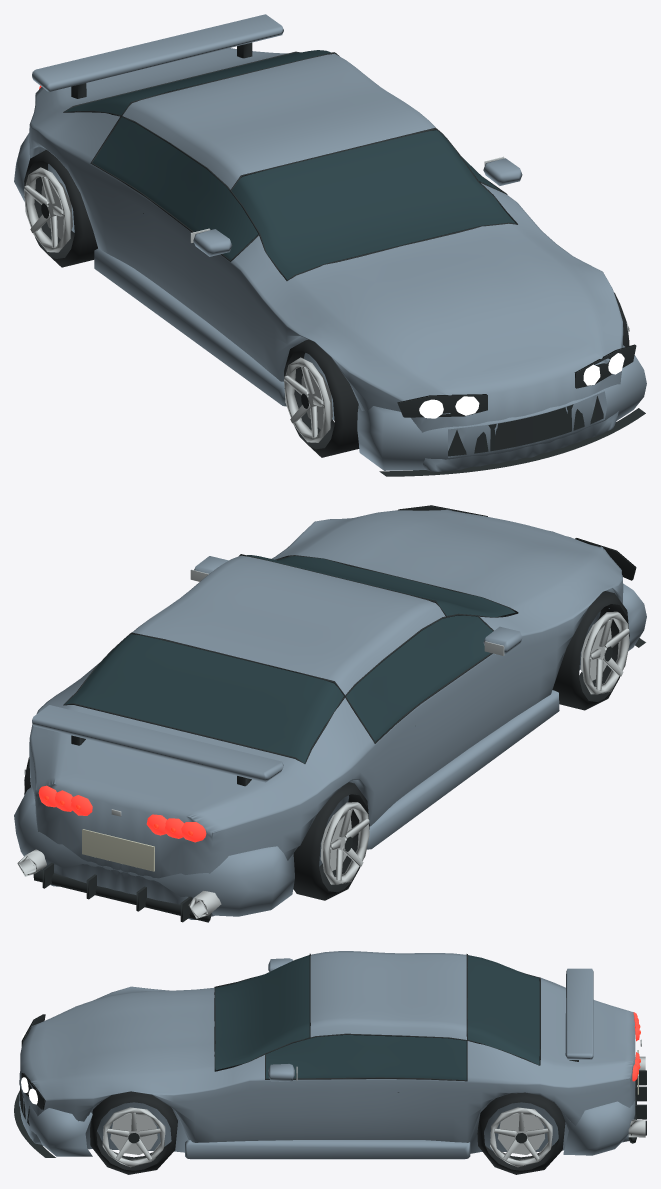
File: lethari-keldra.glb
3 views of the same model, one above another, from view 1: azimuth 30°, elevation 25°; view 2: azimuth 150°, elevation 25°; view 3: azimuth 270°, elevation 25° (orthographic). The views are drawn at different scales.
Visible parts, largest first — view 1: cofano, scocca, cristallo_ant, tetto, porta_sx, cristallo_sx, paraurti_ant, spoiler, minigonna_sx, portellone, ruota_ant_sx_gomma, griglia (+15 smaller); view 2: scocca, tetto, cristallo_post, cofano, portellone, porta_sx, cristallo_sx, paraurti_post, spoiler, minigonna_sx, cristallo_ant, ruota_post_sx_gomma (+13 smaller); view 3: scocca, cofano, porta_dx, tetto, cristallo_ant, cristallo_dx, cristallo_post, minigonna_dx, portellone, paraurti_post, spoiler, ruota_ant_dx_gomma (+13 smaller).
Boxes of the visible parts, bbox=[...] form: cofano: bbox=[287, 223, 604, 385]; scocca: bbox=[29, 87, 623, 472]; cristallo_ant: bbox=[231, 130, 515, 279]; tetto: bbox=[122, 53, 435, 189]; porta_sx: bbox=[91, 164, 246, 352]; cristallo_sx: bbox=[92, 117, 258, 259]; paraurti_ant: bbox=[357, 345, 646, 470]; spoiler: bbox=[32, 14, 283, 91]; minigonna_sx: bbox=[94, 248, 286, 406]; portellone: bbox=[51, 48, 287, 112]; ruota_ant_sx_gomma: bbox=[284, 339, 359, 457]; griglia: bbox=[448, 396, 603, 456]; scocca: bbox=[29, 509, 623, 919]; tetto: bbox=[132, 555, 445, 695]; cristallo_post: bbox=[65, 634, 343, 763]; cofano: bbox=[291, 510, 604, 612]; portellone: bbox=[49, 705, 304, 820]; porta_sx: bbox=[369, 646, 517, 826]; cristallo_sx: bbox=[346, 615, 492, 741]; paraurti_post: bbox=[14, 786, 294, 916]; spoiler: bbox=[32, 705, 283, 782]; minigonna_sx: bbox=[366, 690, 559, 849]; cristallo_ant: bbox=[247, 555, 515, 617]; ruota_post_sx_gomma: bbox=[293, 782, 369, 900]; scocca: bbox=[20, 977, 635, 1153]; cofano: bbox=[43, 988, 214, 1085]; porta_dx: bbox=[249, 1079, 467, 1142]; tetto: bbox=[310, 951, 466, 1039]; cristallo_ant: bbox=[215, 955, 309, 1070]; cristallo_dx: bbox=[266, 1035, 466, 1080]; cristallo_post: bbox=[467, 955, 539, 1065]; minigonna_dx: bbox=[185, 1140, 470, 1159]; portellone: bbox=[540, 978, 635, 1071]; paraurti_post: bbox=[561, 1100, 635, 1155]; spoiler: bbox=[565, 968, 593, 1059]; ruota_ant_dx_gomma: bbox=[90, 1091, 177, 1174].
Size of the model in its own units: 2.07 by 1.16 by 4.84.
